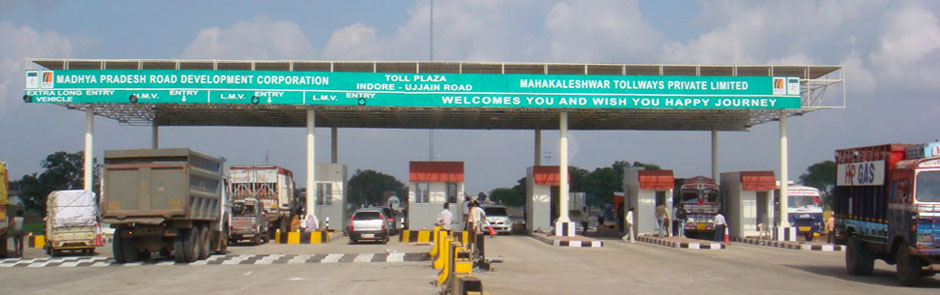toll plaza: (21, 48, 855, 135)
